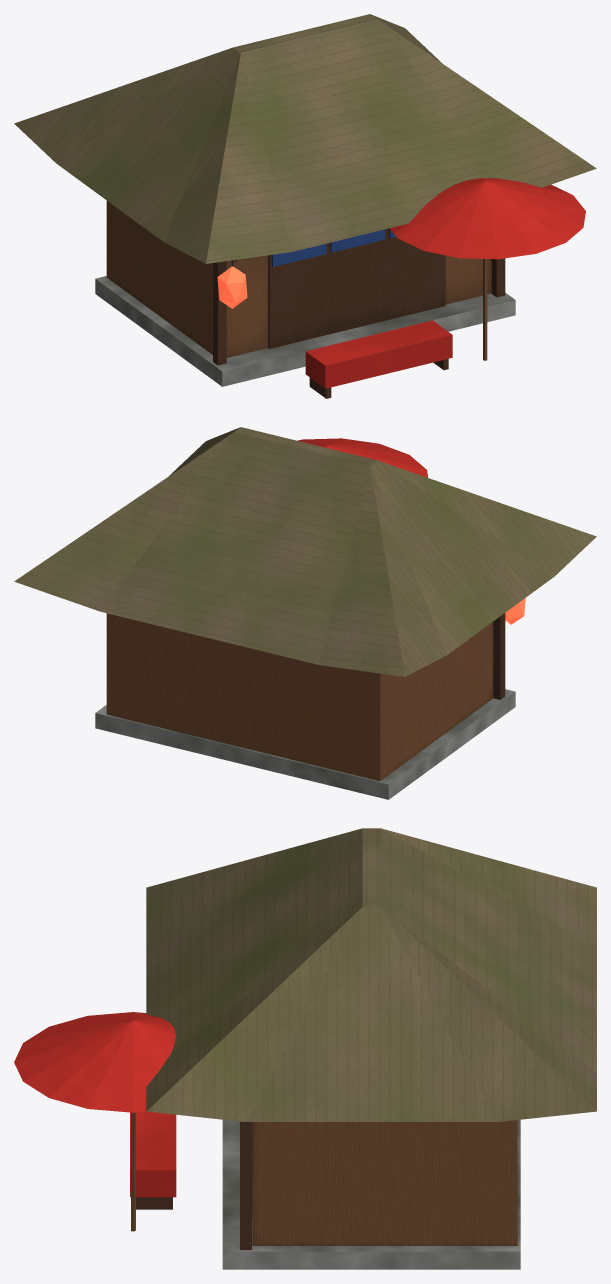
File: chaya_tex.glb
3 renders of one model, top to bottom at view 1: azimuth 30°, elevation 25°; view 2: azimuth 150°, elevation 25°; view 3: azimuth 270°, elevation 25°, orthographic. The views are drawn at different scales.
Parts seen in each view (by area): view 1: chaya; view 2: chaya; view 3: chaya.
Boxes of the visible parts, left/top/right/bottom form: chaya: left=14, top=14, right=596, bottom=398; chaya: left=14, top=427, right=596, bottom=799; chaya: left=14, top=828, right=596, bottom=1269.
Size of the model in its own units: 8 by 5.31 by 8.8.
Materials: 8 (6 with a texture image).
